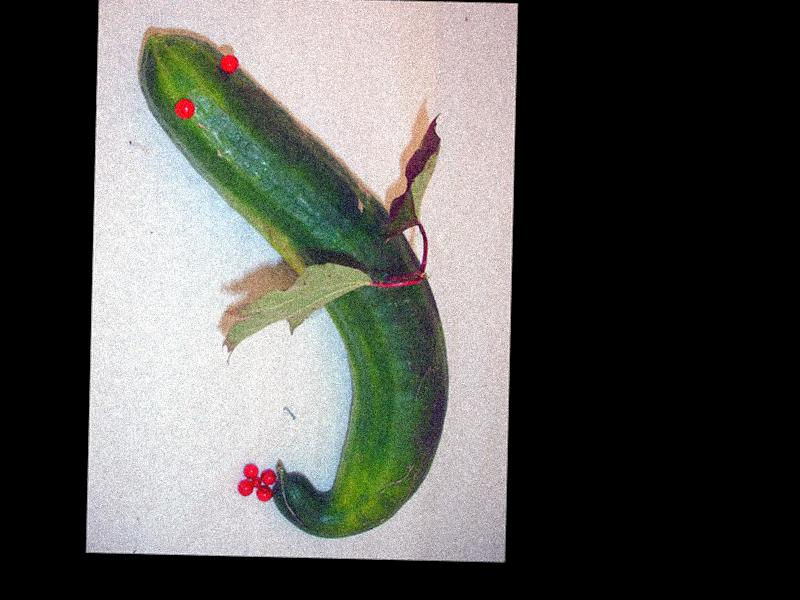Cucumber: (129, 32, 456, 540)
